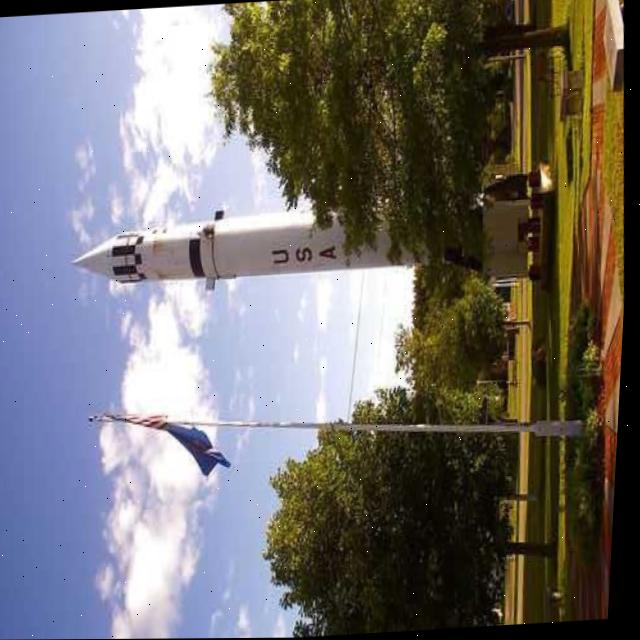missile: (68, 173, 547, 298)
